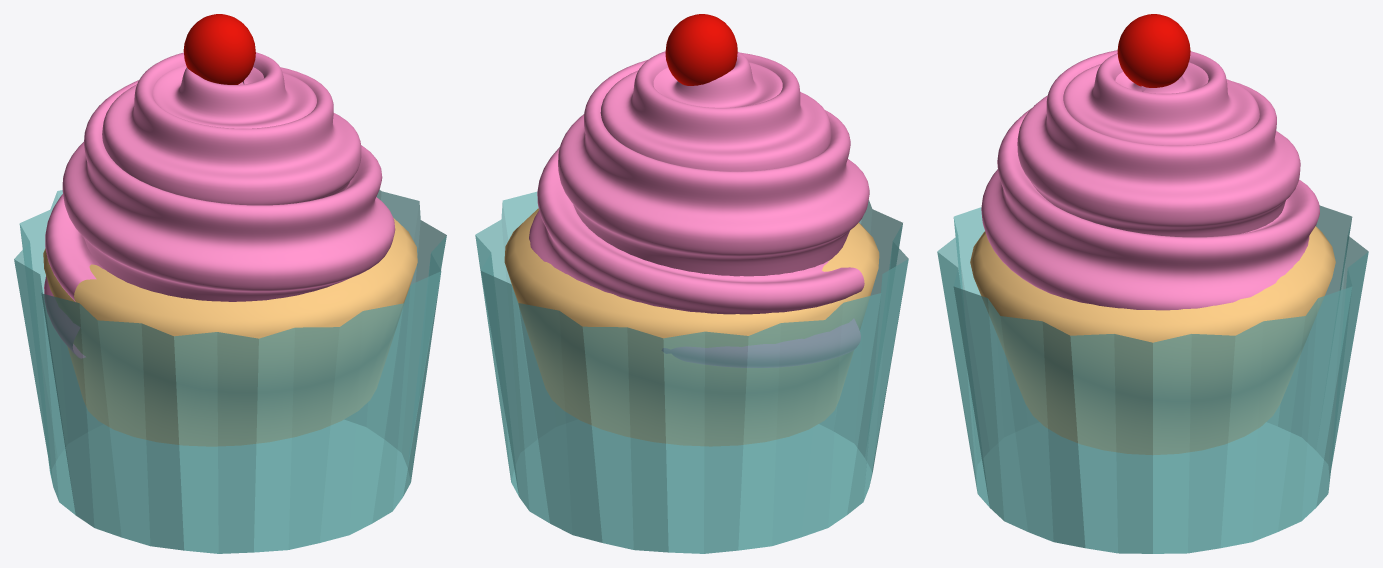
Rendered from Cupcakeblend.glb.
3 views of the same model, side by side, from view 1: azimuth 30°, elevation 25°; view 2: azimuth 150°, elevation 25°; view 3: azimuth 270°, elevation 25° (orthographic).
Visible parts, largest first — view 1: Cylinder, Spiral.002, Sphere, Sphere.001; view 2: Cylinder, Spiral.002, Sphere, Sphere.001; view 3: Cylinder, Spiral.002, Sphere, Sphere.001.
Boxes of the visible parts, x1,y1,x2,y2 form: Cylinder: (14,189,446,553); Spiral.002: (44,52,395,358); Sphere: (43,218,417,446); Sphere.001: (183,14,255,84); Cylinder: (475,191,908,553); Spiral.002: (529,51,869,367); Sphere: (504,208,879,446); Sphere.001: (665,14,737,85); Cylinder: (937,205,1368,553); Spiral.002: (981,50,1319,310); Sphere: (970,226,1335,454); Sphere.001: (1117,14,1190,87).
Size of the model in its own units: 2.03 by 2.37 by 2.03.
